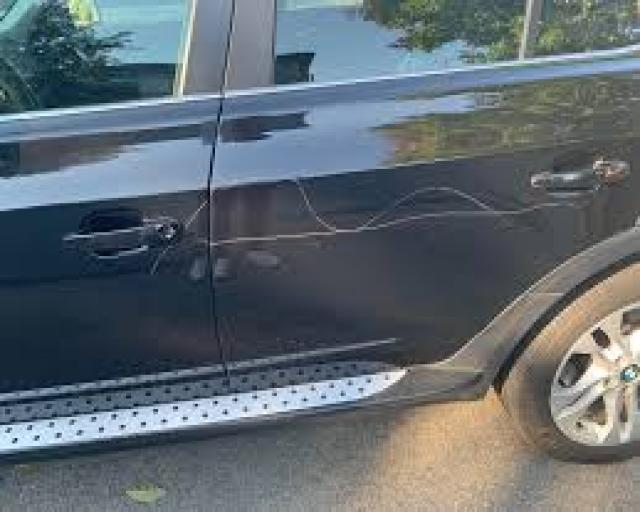scratch: (140, 164, 600, 295)
